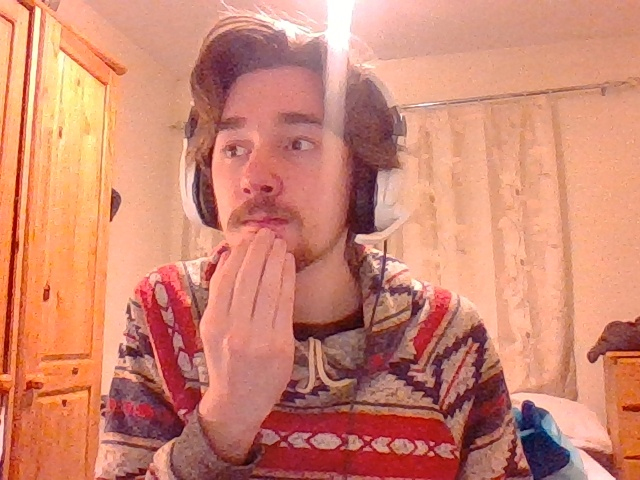thanks: (198, 226, 295, 422)
